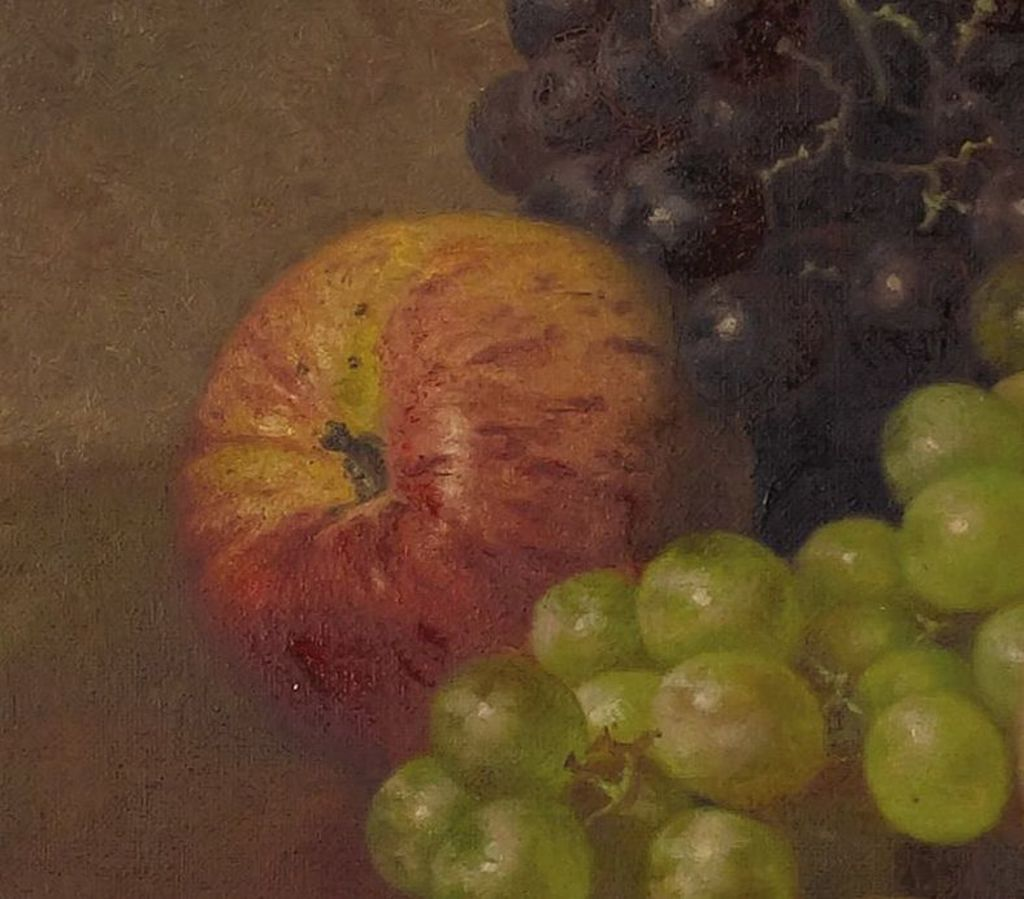Apple: (213, 188, 721, 747)
